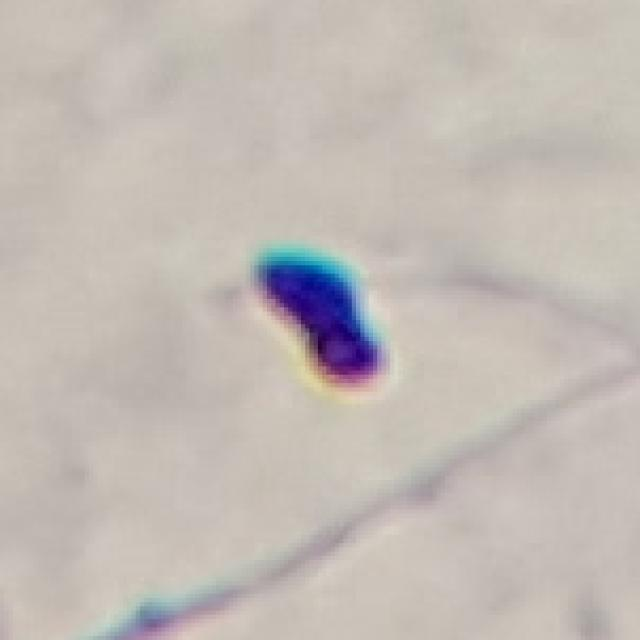non-sperm: (253, 252, 391, 390)
